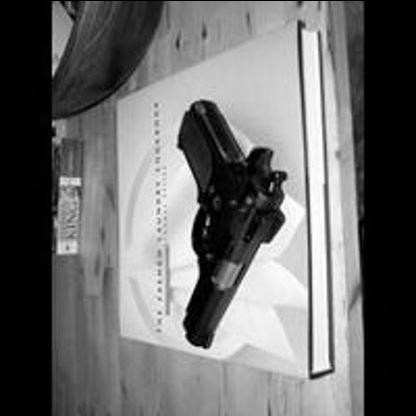weapon: (169, 99, 288, 350)
